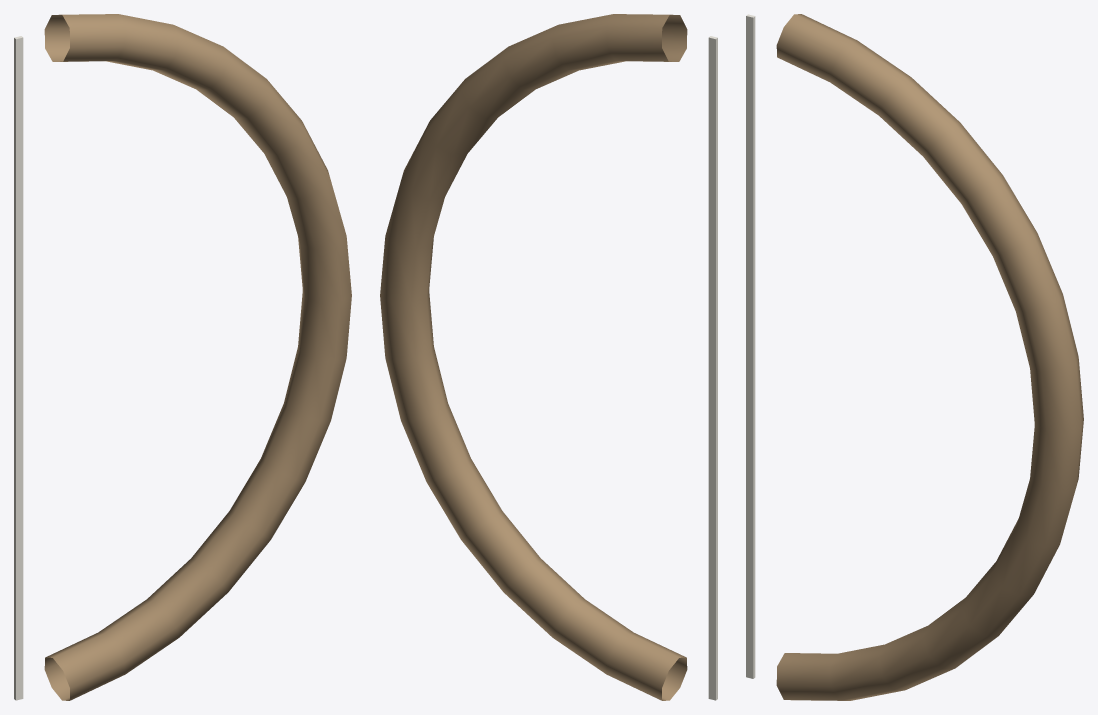
Rendered from wpn_bow.glb.
3 views of the same model, side by side, from view 1: azimuth 30°, elevation 25°; view 2: azimuth 150°, elevation 25°; view 3: azimuth 330°, elevation 25° (orthographic).
Parts seen in each view (by area): view 1: wpn_bow; view 2: wpn_bow; view 3: wpn_bow.
Part boxes in pixels (box(x1,y1,x2,y2)): wpn_bow: box(14, 14, 351, 700); wpn_bow: box(380, 14, 717, 700); wpn_bow: box(746, 14, 1083, 700).
Bounding box in the file's own units: 0.455 × 0.892 × 0.06.
